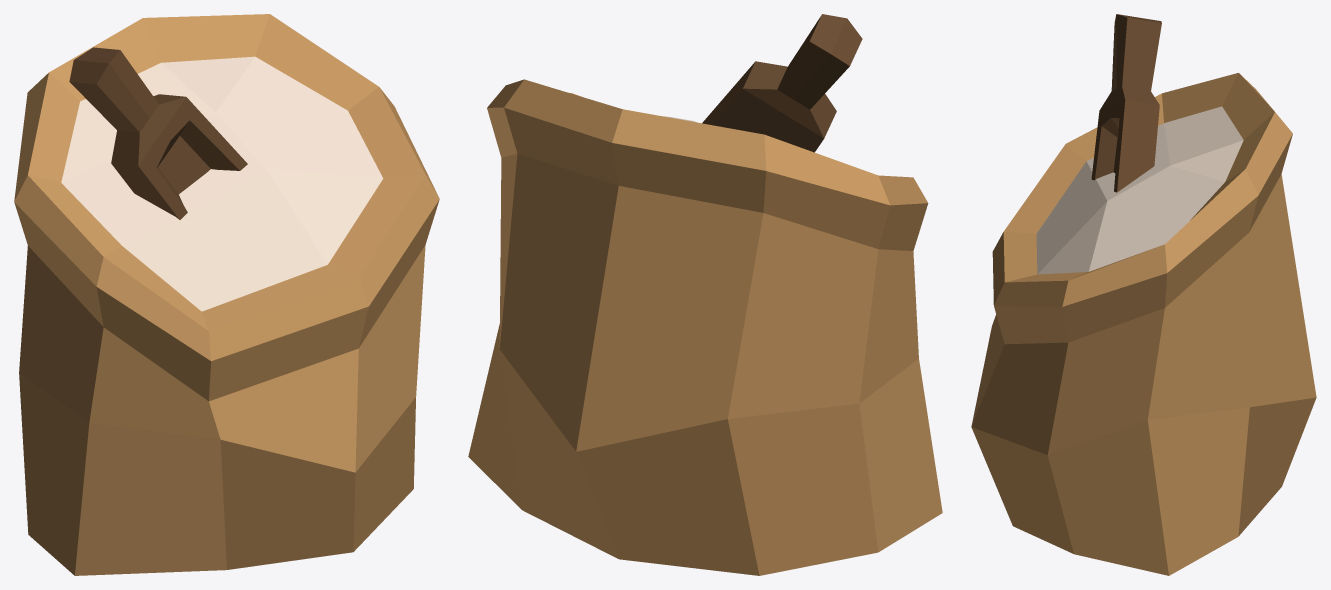
File: farm_wheat-flour.fbx
The picture shows the model from 3 angles, left to right: view 1: azimuth 30°, elevation 25°; view 2: azimuth 150°, elevation 25°; view 3: azimuth 270°, elevation 25°; orthographic projection. The views are drawn at different scales.
Parts seen in each view (by area): view 1: farm_wheat_flour; view 2: farm_wheat_flour; view 3: farm_wheat_flour.
Part boxes in pixels (box(x1,y1,x2,y2)): farm_wheat_flour: box(14, 14, 439, 575); farm_wheat_flour: box(468, 14, 942, 575); farm_wheat_flour: box(971, 14, 1316, 575).
Bounding box in the file's own units: 166 × 200 × 142.
